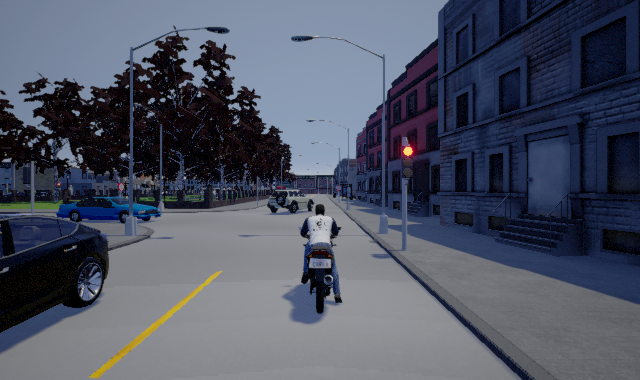motobike: (297, 205, 343, 317)
traffic_light: (401, 139, 413, 185)
vehicle: (1, 197, 110, 335), (56, 193, 164, 223), (267, 188, 315, 214)
